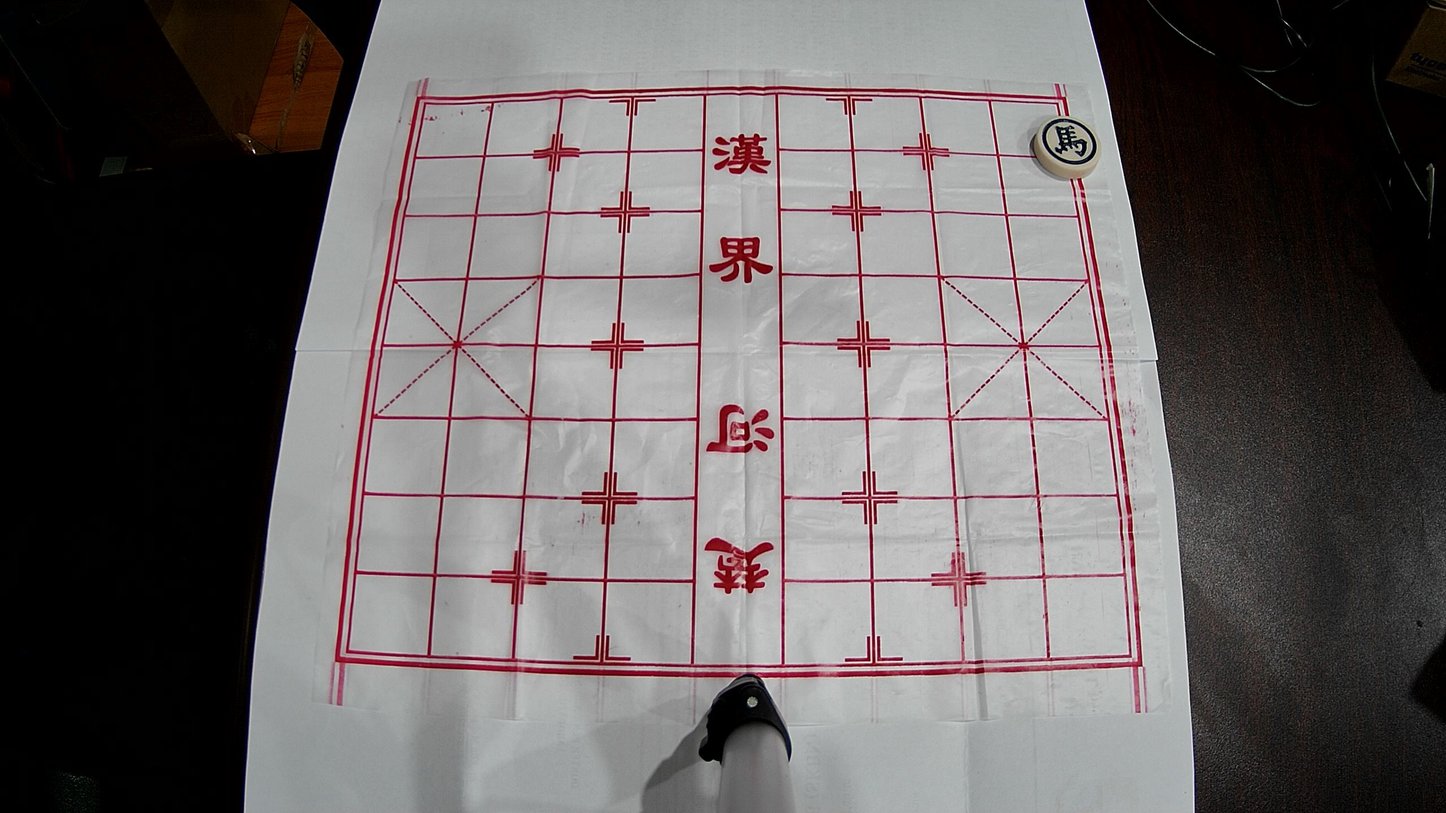Black-Horse: (1034, 116, 1101, 179)
